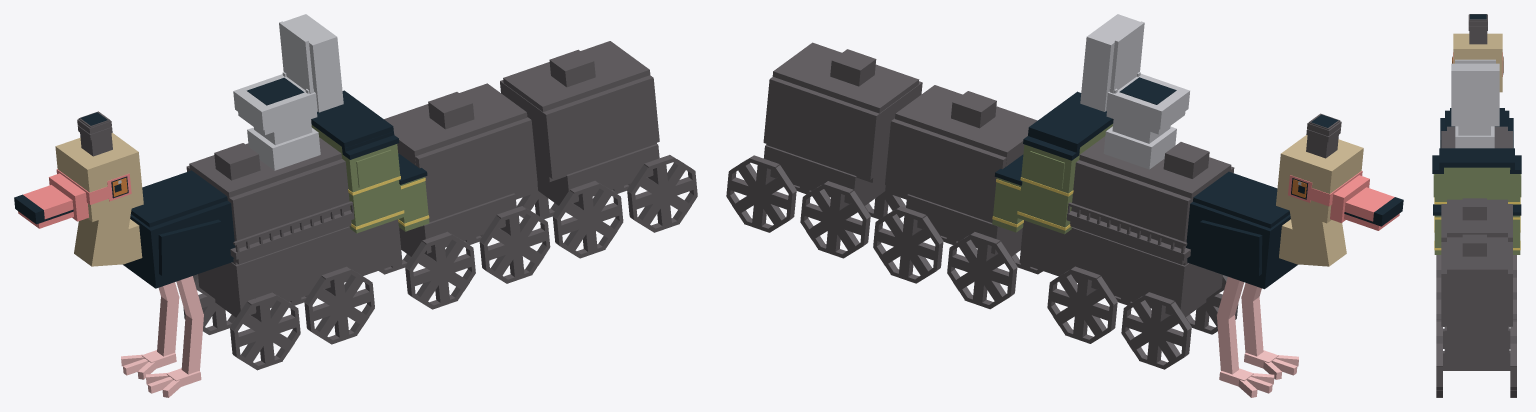
The model's file is Trenostruzzo_Turbo_3000.fbx.
3 views of the same model, side by side, from view 1: azimuth 30°, elevation 25°; view 2: azimuth 150°, elevation 25°; view 3: azimuth 270°, elevation 25° (orthographic). The views are drawn at different scales.
Visible parts, largest first — view 1: Trenostruzzo_Turbo_3000; view 2: Trenostruzzo_Turbo_3000; view 3: Trenostruzzo_Turbo_3000.
Boxes of the visible parts, box(x1,y1,x2,y2) form: Trenostruzzo_Turbo_3000: box(14, 14, 697, 397); Trenostruzzo_Turbo_3000: box(726, 14, 1403, 397); Trenostruzzo_Turbo_3000: box(1432, 14, 1521, 397).
Bounding box in the file's own units: 1953 × 911 × 304.
